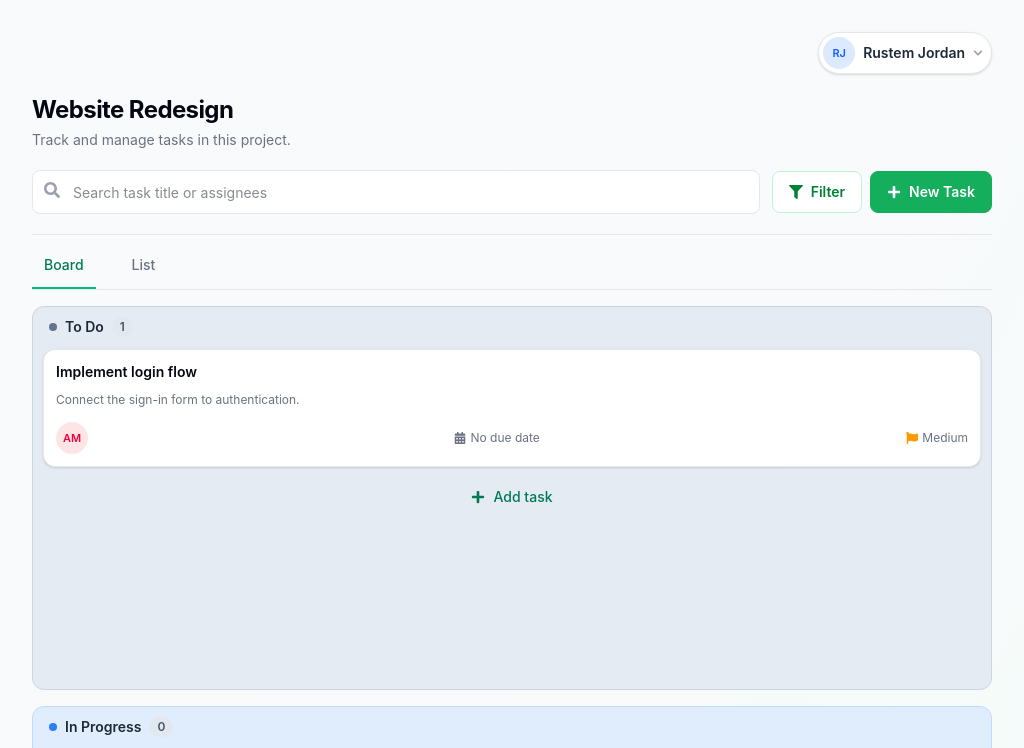
Test: Task page › combines assignee and priority filters and clears them
The image size is (1024, 748).
Expected: the button "Implement login flow" is shown, [43,349,981,467]
Click the button "Filter". click: (817, 192)
box: [772,171,862,213]
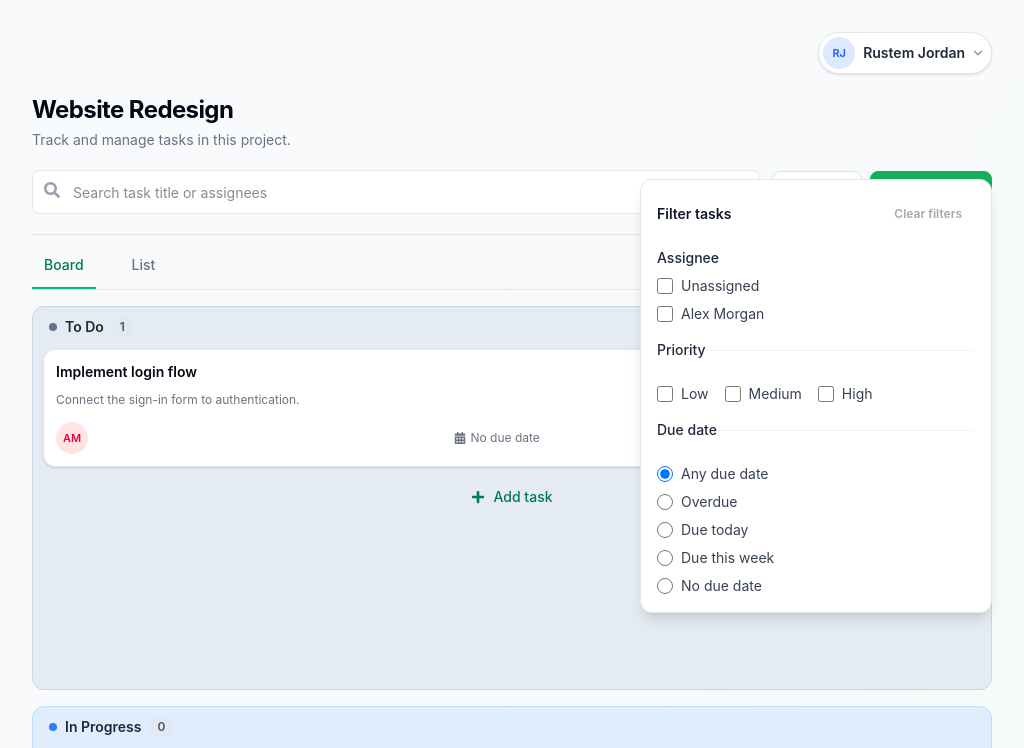
Click the checkbox labelled "Alex Morgan". click: (665, 314)
box: [657,306,673,322]
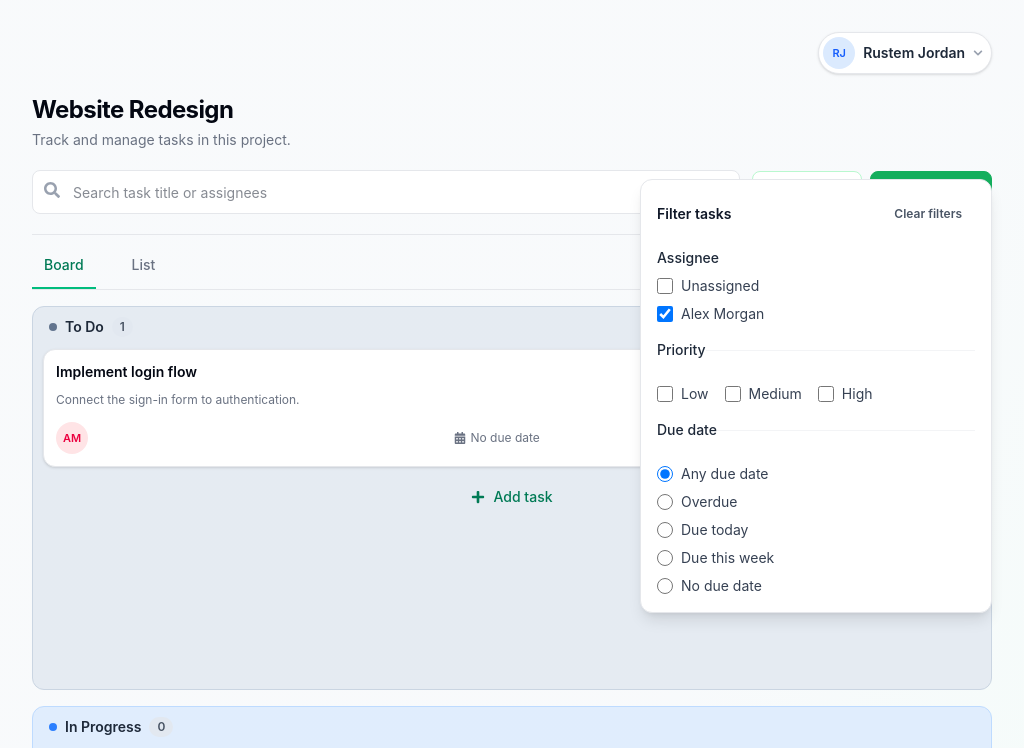
Click the checkbox labelled "medium". click: (732, 394)
box: [724,386,740,402]
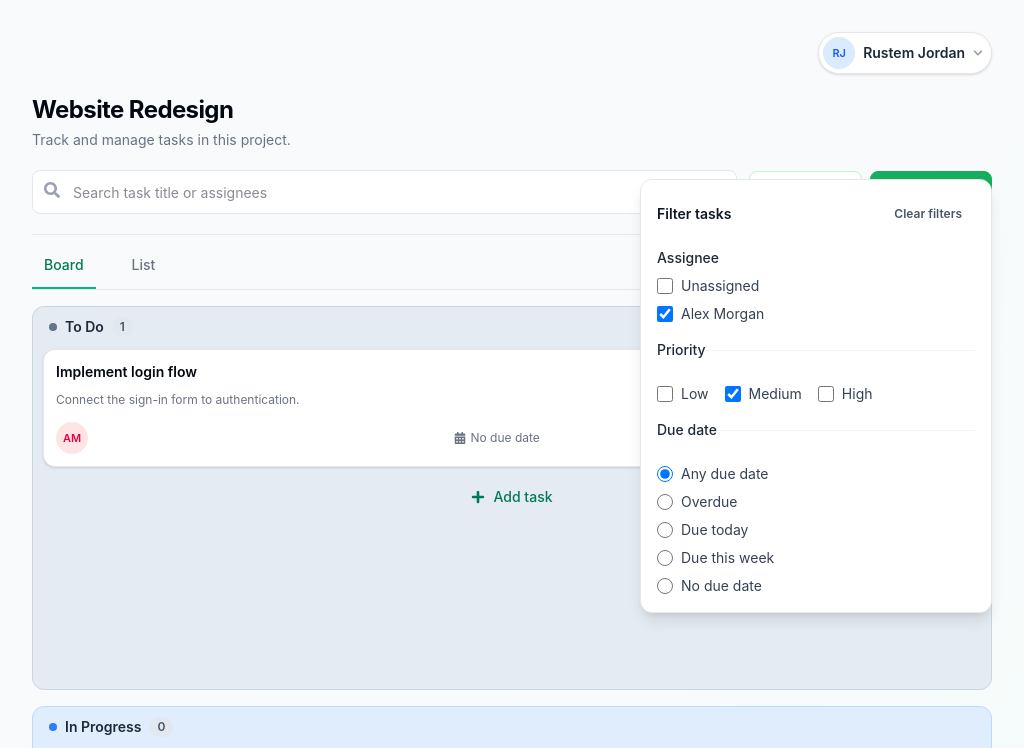
Expected: the button "Implement login flow" is shown, [43,349,981,467]
Result: the button "Filter (2)" is shown at [749,171,862,213]
Click the button "Clear filters". click: (928, 214)
box: [881,196,975,232]
(page scrolled)
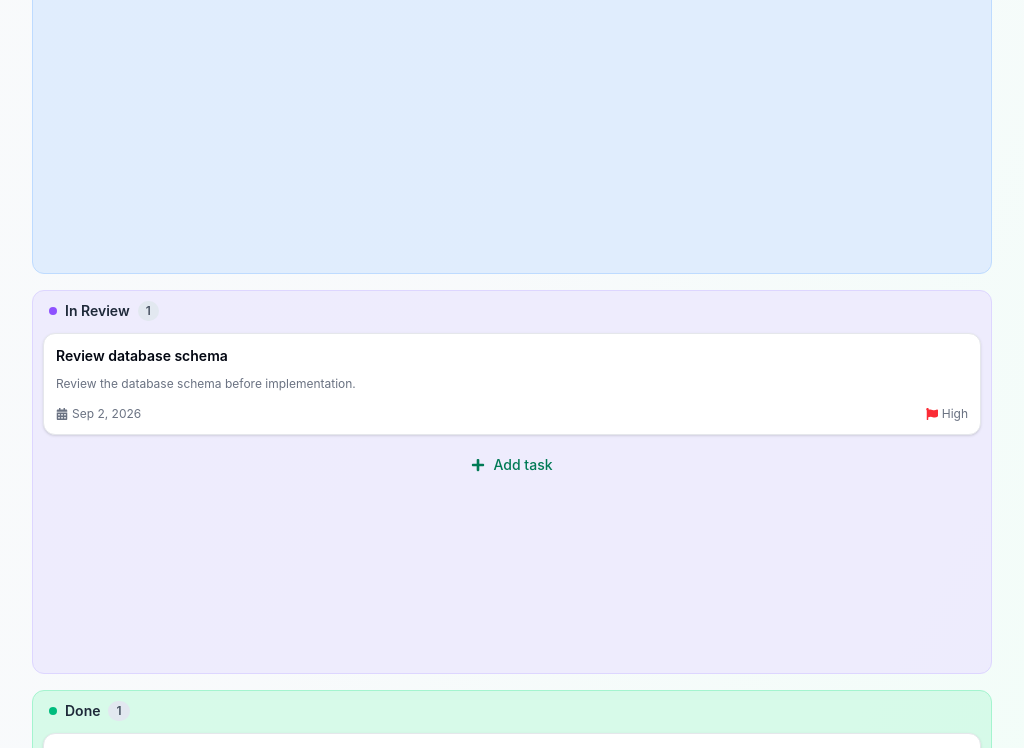
Result: the button "Review database schema" is shown at [43,333,981,435]
